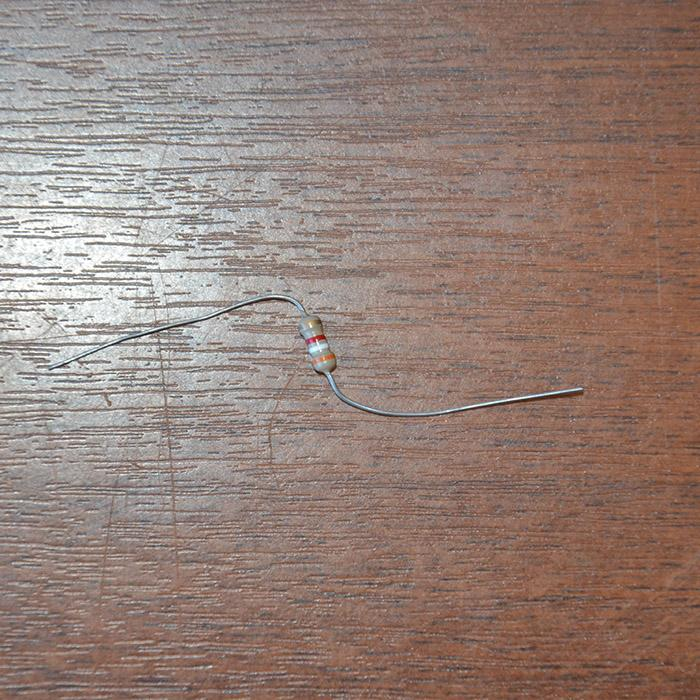resistor: (296, 313, 336, 373)
